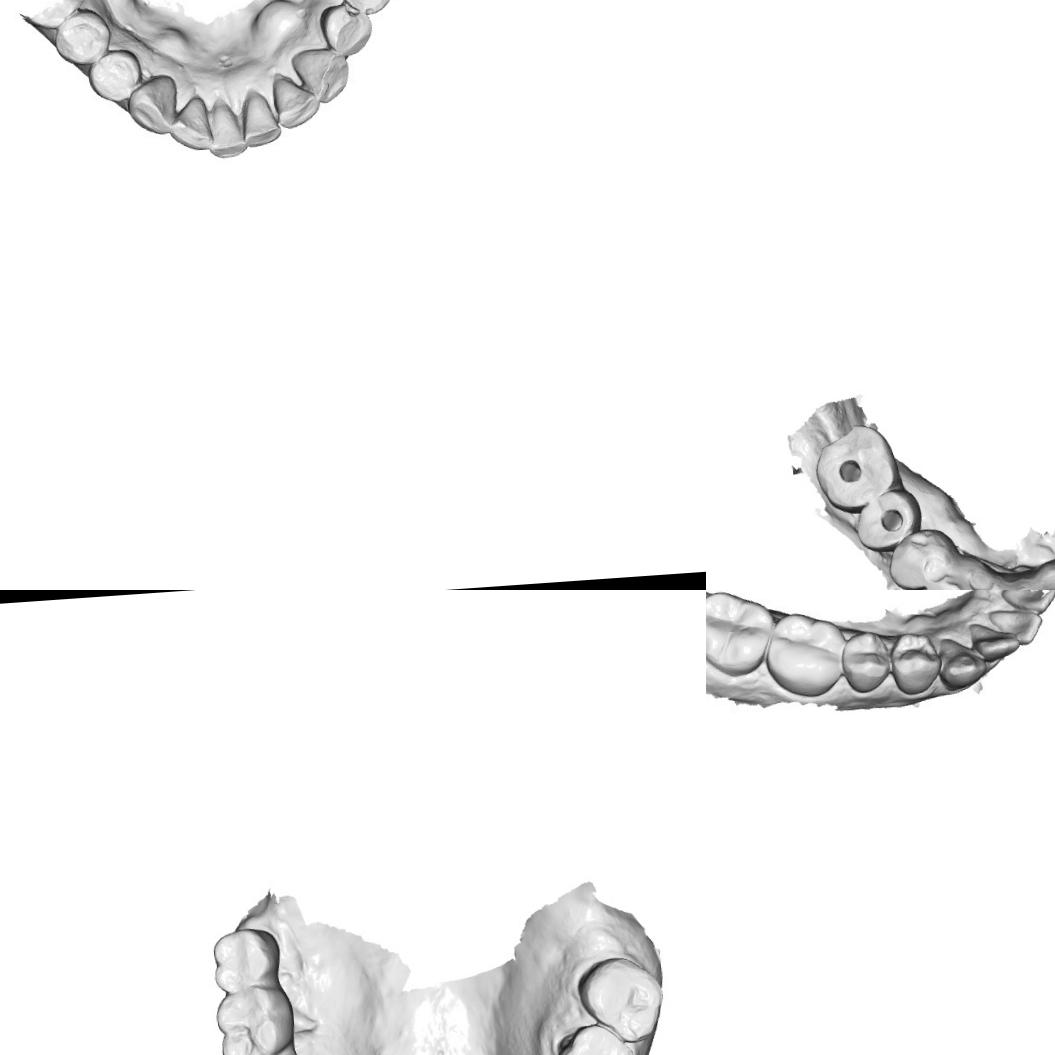canine: (288, 45, 350, 103), (932, 636, 990, 694), (126, 79, 175, 137), (921, 570, 978, 590)
incisor: (272, 70, 319, 130), (168, 94, 212, 155), (966, 612, 1018, 662), (238, 93, 282, 151), (990, 602, 1044, 648), (204, 98, 244, 160)
molar: (810, 420, 902, 514), (576, 953, 667, 1047), (764, 610, 848, 696), (212, 982, 297, 1055), (706, 592, 772, 679), (210, 924, 283, 995), (551, 1020, 641, 1055)
premolar: (852, 486, 924, 552), (882, 526, 952, 590), (839, 628, 895, 700), (51, 6, 114, 69), (318, 1, 373, 60), (87, 50, 141, 109), (890, 630, 939, 693), (337, 0, 395, 12)
